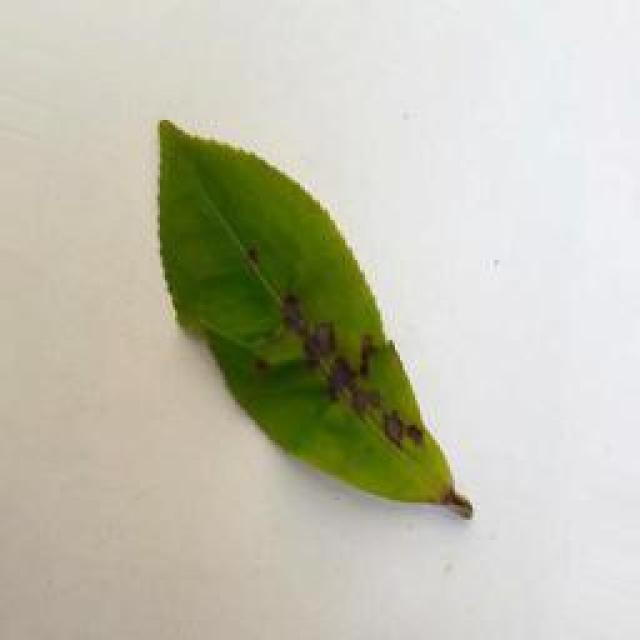Helopeltis: (145, 107, 480, 520)
